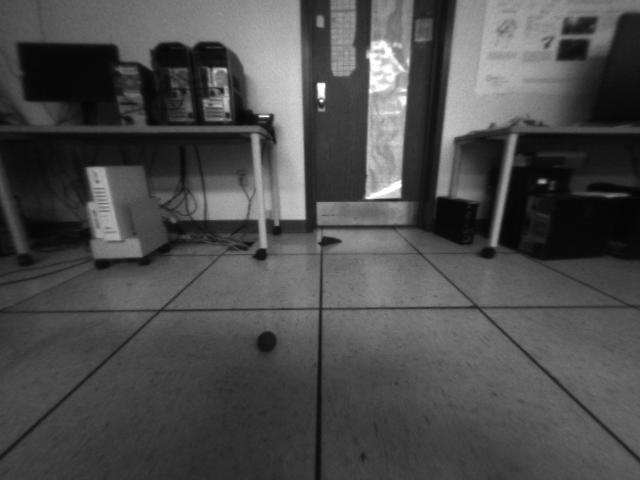dogtoy: (249, 322, 281, 356)
